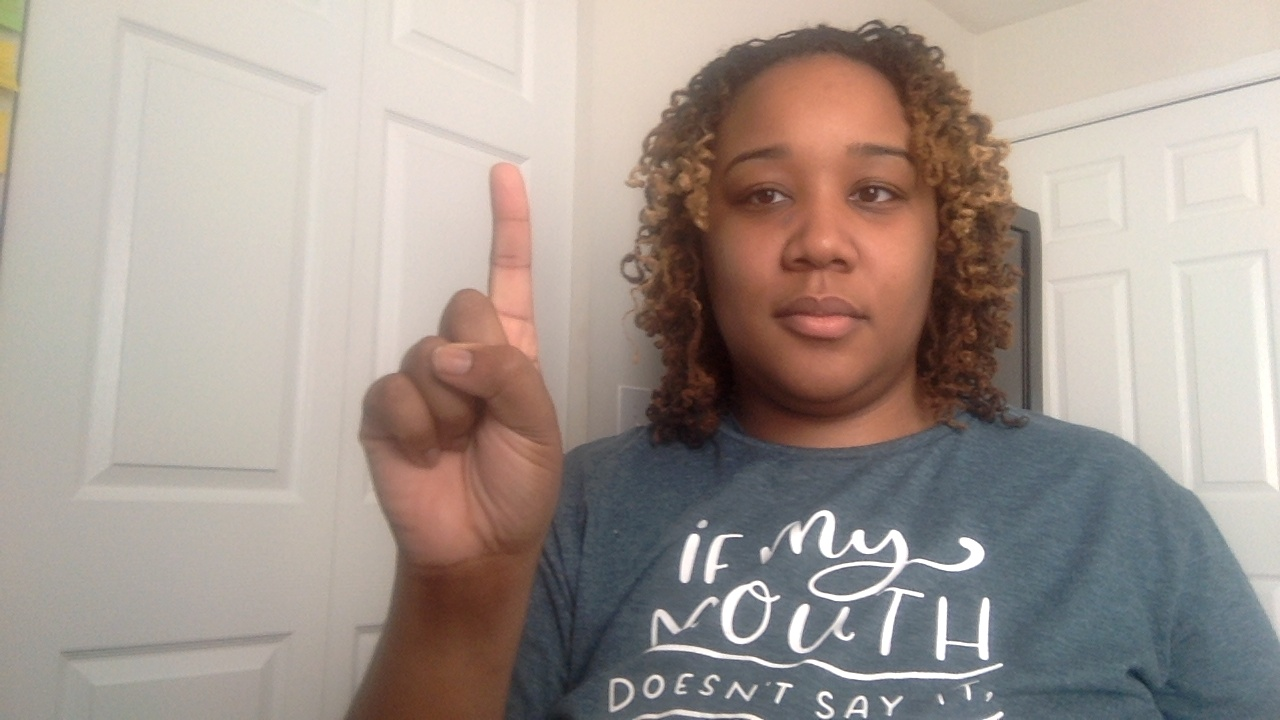up: (326, 146, 560, 720)
